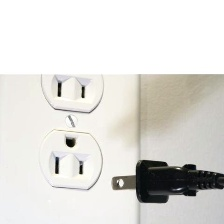three_eye_plug: (0, 49, 145, 224)
